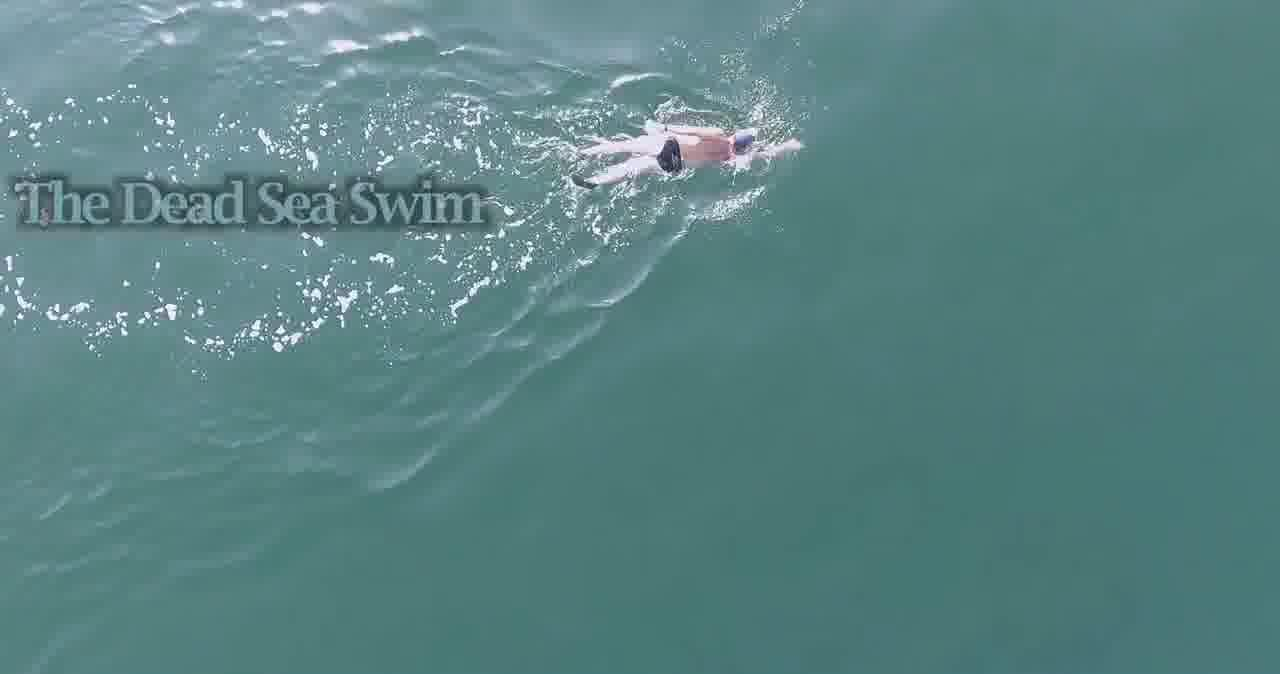swimmer: (555, 117, 790, 193)
